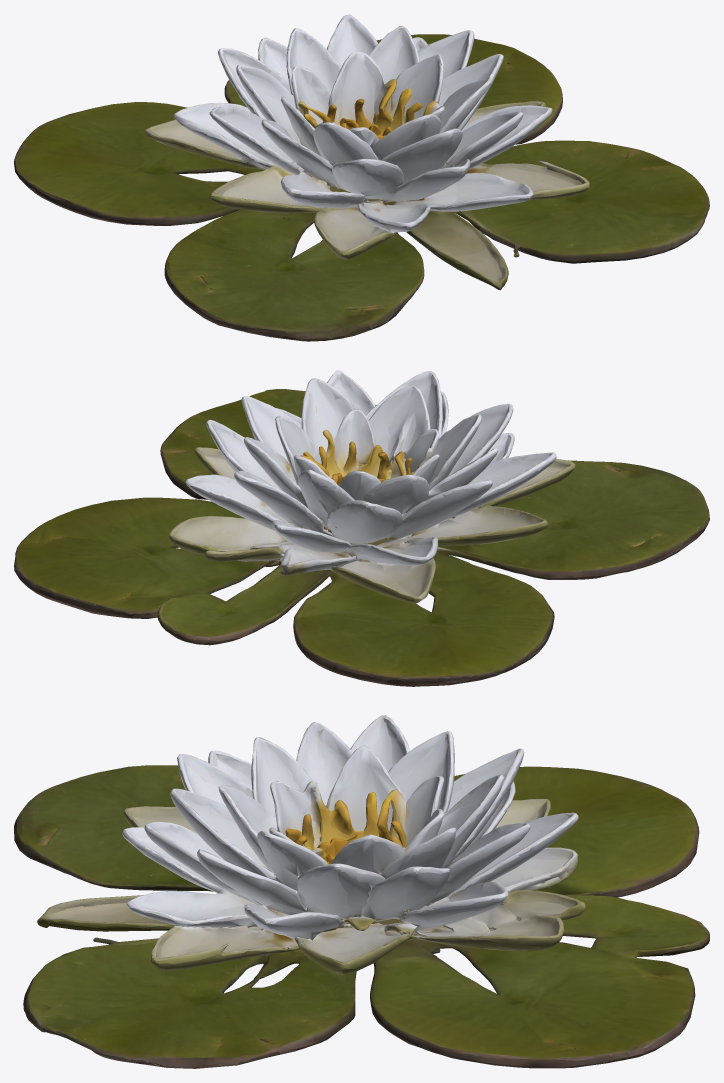
File: water-lily-pad-v21.glb
3 views of the same model, one above another, from view 1: azimuth 30°, elevation 25°; view 2: azimuth 150°, elevation 25°; view 3: azimuth 270°, elevation 25° (orthographic). The views are drawn at different scales.
Visible parts, largest first — view 1: geometry_0; view 2: geometry_0; view 3: geometry_0.
Part boxes in pixels (x1=…): geometry_0: x1=14, y1=14, x2=709, y2=341; geometry_0: x1=14, y1=370, x2=709, y2=686; geometry_0: x1=14, y1=715, x2=709, y2=1068.
Size of the model in its own units: 0.2498 by 0.0578 by 0.2498.
Materials: 1 (1 with a texture image).
